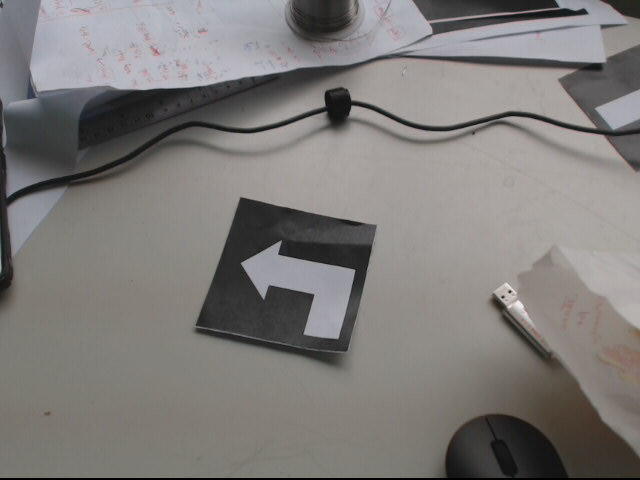left: (196, 196, 381, 354)
